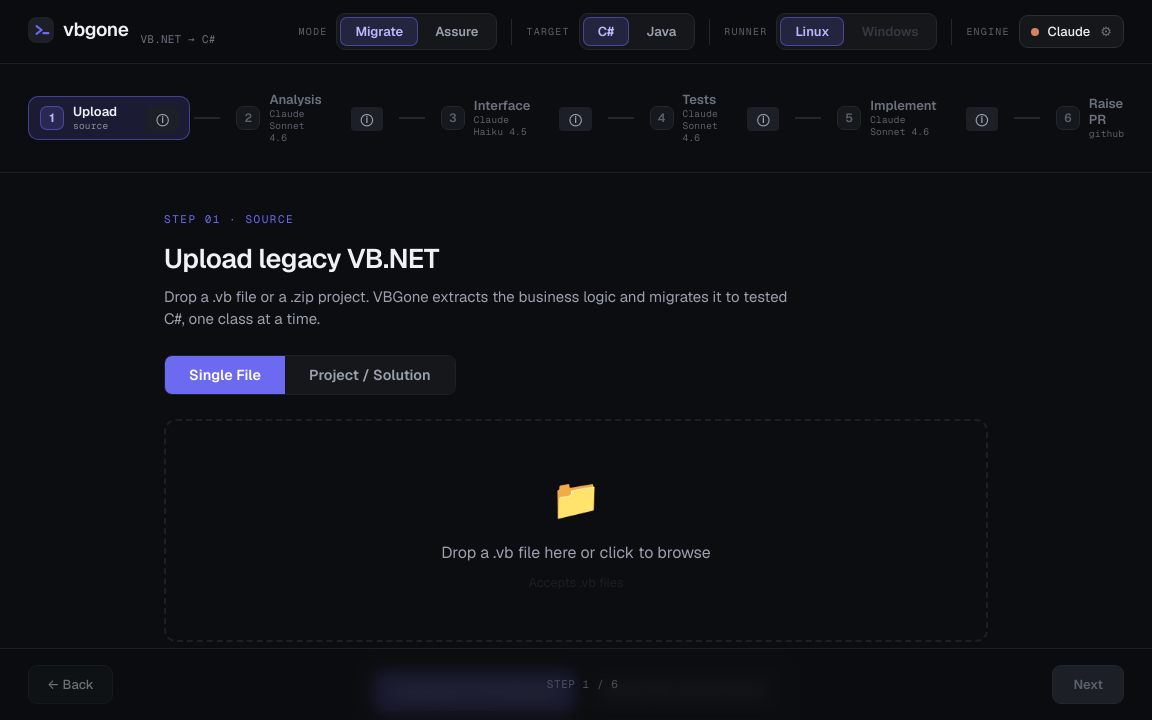
Test: WizardShell — mode-aware stepper › renders four relabelled Assure steps and STEP n / 4
Click the button "Assure": (457, 32) [420, 17, 494, 46]
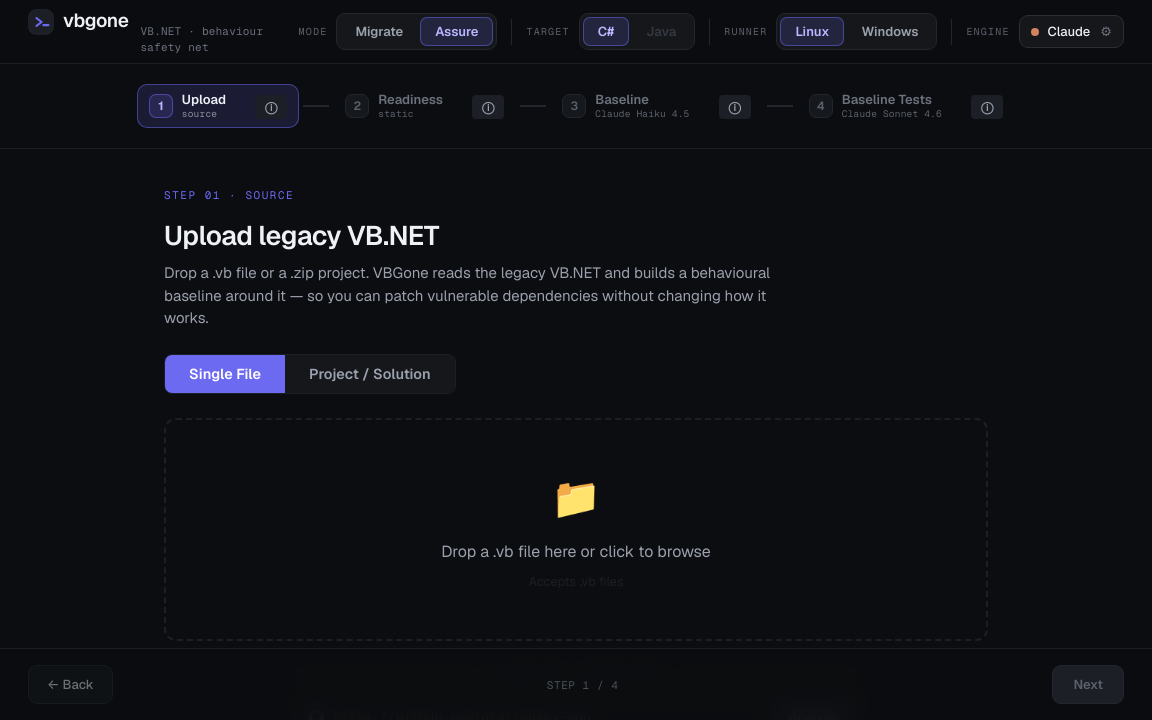
Expected: the text "Baseline" is shown, [595, 92, 649, 108]
Expected: the text "Baseline Tests" is shown, [842, 92, 932, 108]
Expected: the button "Interface" is gone
